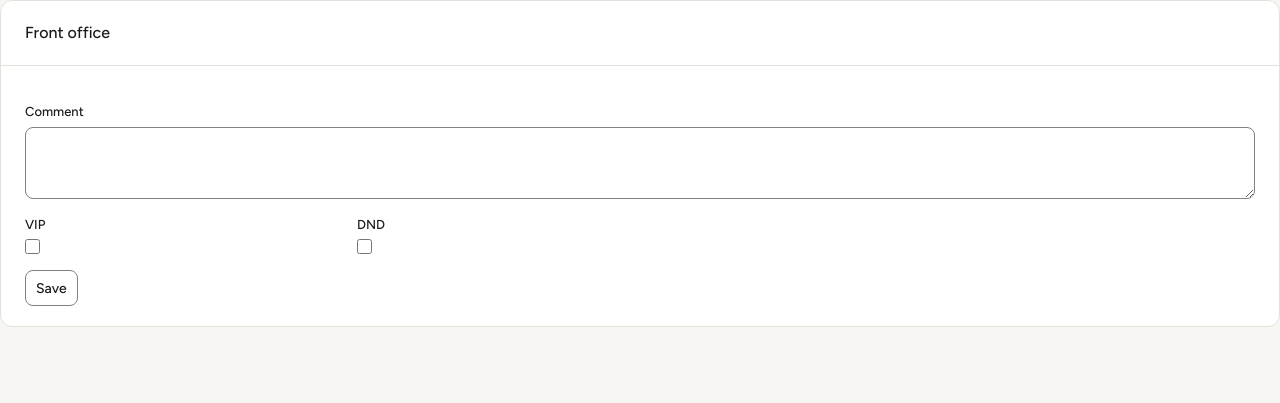
Test: FrontOfficeEditor › save errors use the classified message
The width and height of the screenshot is (1280, 403).
Click the button with test id "front-office-save" at [51, 288], box [25, 270, 78, 306]
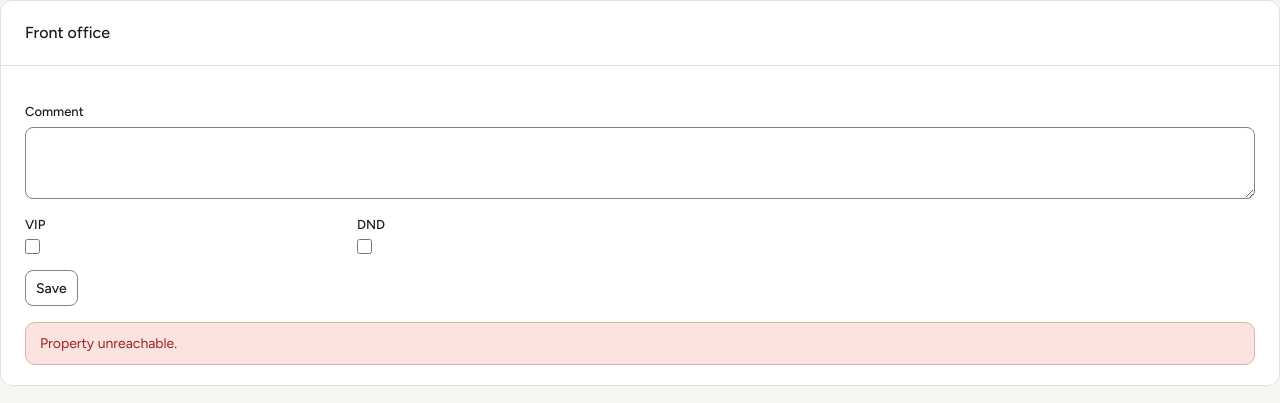
Result: the message with test id "front-office-message" shows "Property unreachable" at [40, 335, 177, 352]
